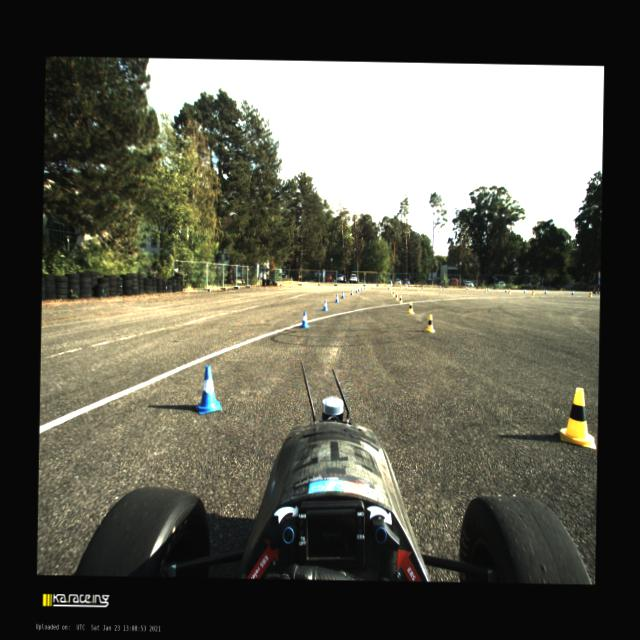blue_cone: (195, 365, 223, 415), (300, 310, 309, 328), (322, 300, 328, 310), (334, 294, 338, 302), (570, 290, 574, 295), (350, 288, 353, 294), (341, 292, 344, 298), (355, 288, 358, 292), (523, 288, 526, 292), (358, 286, 360, 291), (544, 289, 546, 294), (504, 287, 506, 292), (372, 284, 374, 289), (360, 286, 362, 290), (487, 287, 489, 291), (442, 286, 444, 290), (421, 285, 423, 289), (405, 285, 407, 289), (364, 286, 366, 290), (467, 286, 468, 290)
yellow_cone: (560, 386, 598, 449), (424, 314, 436, 333), (408, 302, 414, 312), (399, 296, 403, 304), (588, 290, 592, 296), (395, 292, 398, 300), (531, 289, 534, 294), (389, 288, 392, 293), (484, 287, 487, 292), (392, 290, 394, 296), (508, 288, 510, 294), (388, 286, 390, 292), (399, 285, 402, 289), (416, 284, 418, 290), (532, 289, 534, 294), (465, 286, 467, 291), (389, 286, 391, 290), (439, 286, 441, 290)
